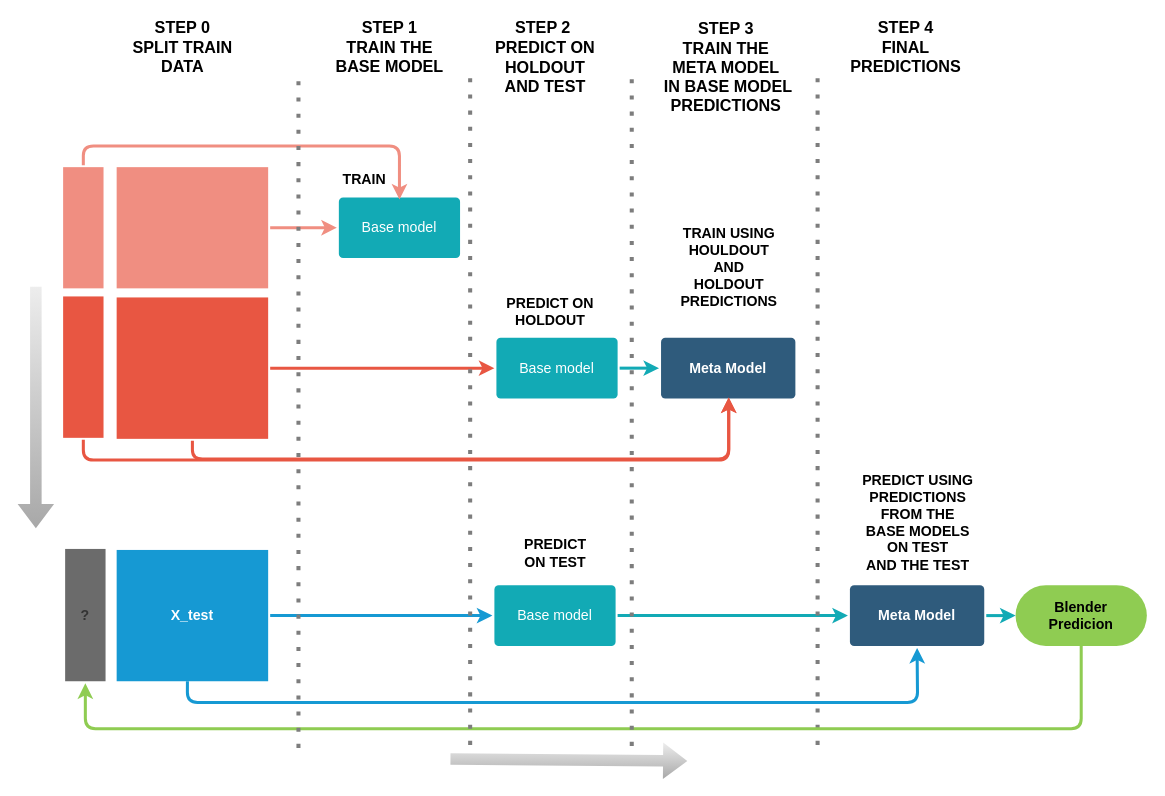
The diagram is 1165 pixels wide and 796 high, and some of its shapes have lost their labels. Each missing label, with the box of its shape:
X_holdout: (116, 297, 268, 438)
X_train: (116, 167, 268, 288)
y_h: (63, 296, 103, 437)
y_t: (63, 167, 103, 288)
